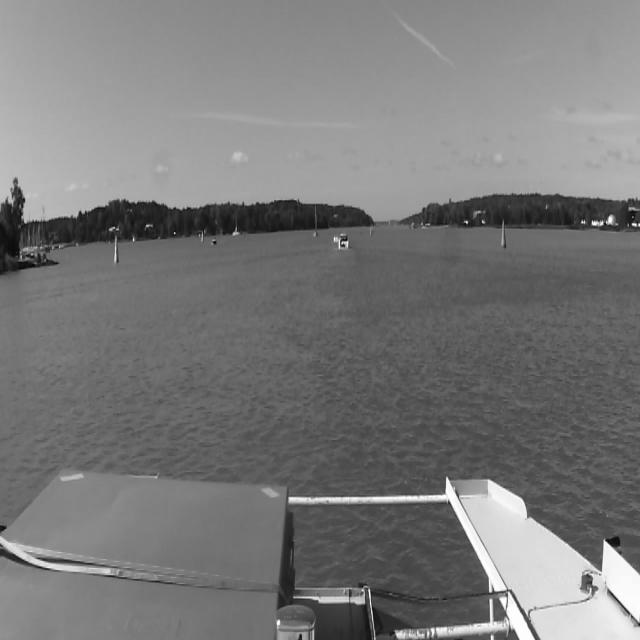buoy: (112, 234, 120, 268), (501, 220, 507, 250), (370, 222, 373, 235), (202, 230, 204, 240)
ship: (339, 236, 351, 250)
